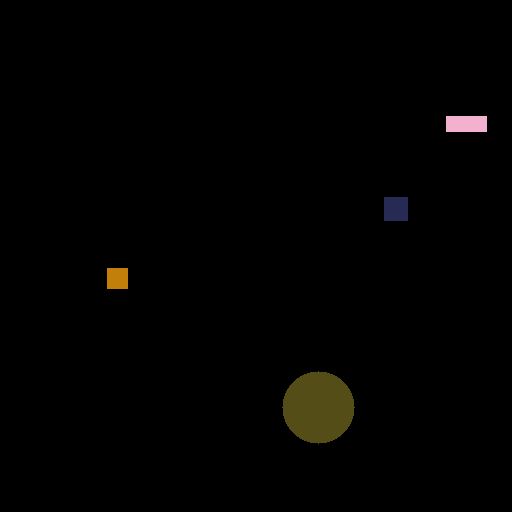circle: (284, 370, 355, 443)
side_rect: (444, 115, 489, 131)
square: (382, 194, 410, 222), (106, 264, 127, 289)
